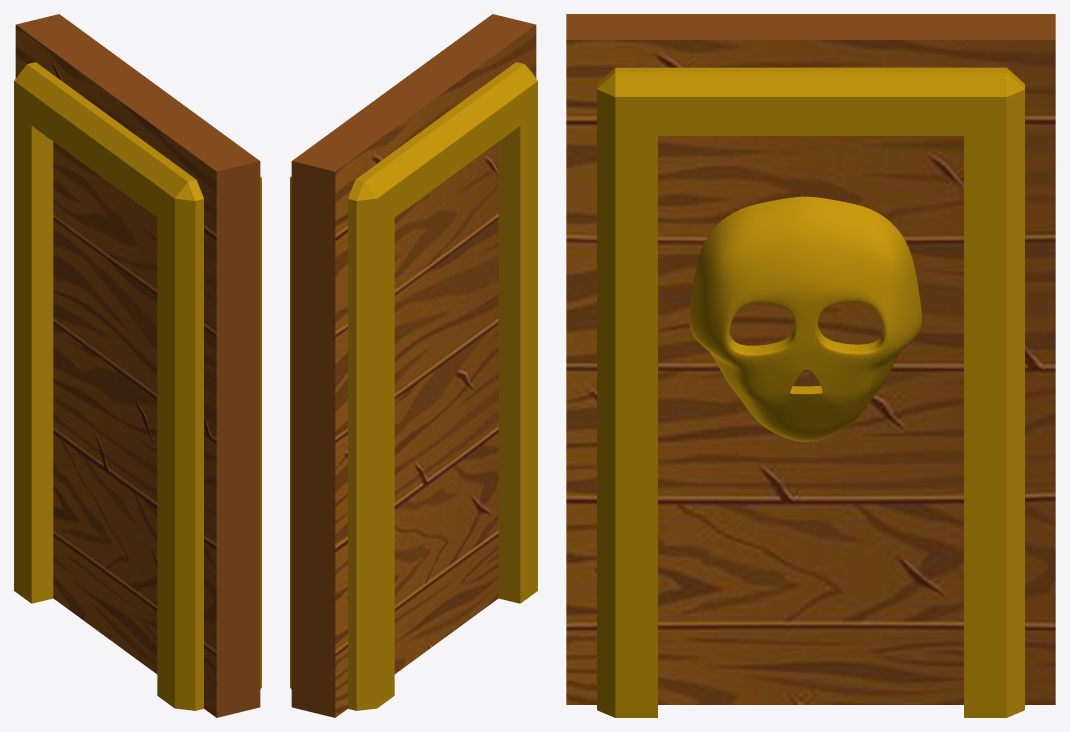
The model's file is M_PortaleBoss.fbx.
3 views of the same model, side by side, from view 1: azimuth 30°, elevation 25°; view 2: azimuth 150°, elevation 25°; view 3: azimuth 270°, elevation 25° (orthographic). The views are drawn at different scales.
Parts seen in each view (by area): view 1: PortaleBoss; view 2: PortaleBoss; view 3: PortaleBoss.
Part boxes in pixels (x1,y1,x2,y2): PortaleBoss: (14,14,261,717); PortaleBoss: (290,14,537,717); PortaleBoss: (566,14,1055,717).
Bounding box in the file's own units: 1.27 × 6 × 4.
